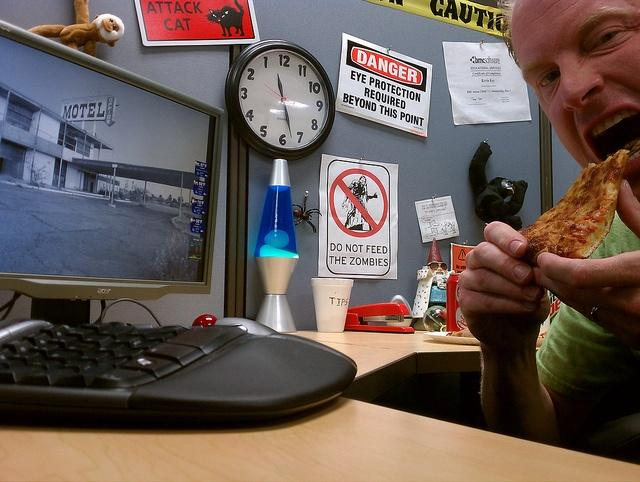AIO PC-Monitor-TV: (0, 16, 225, 299)
